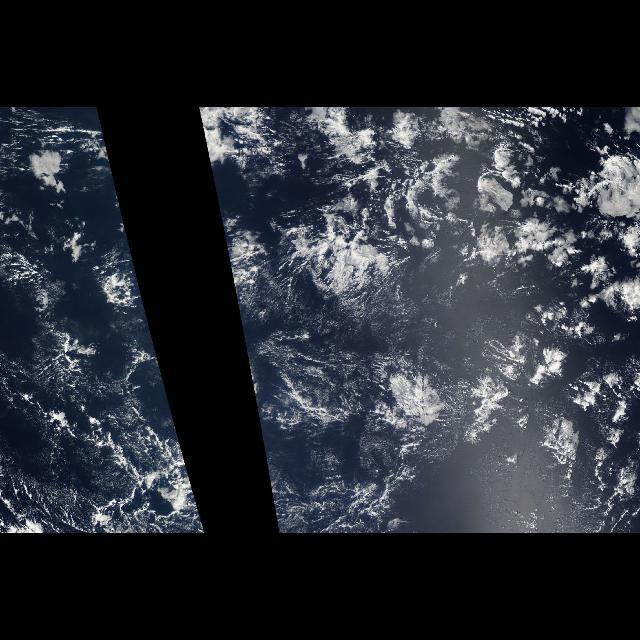Sugar: (257, 112, 633, 478)
